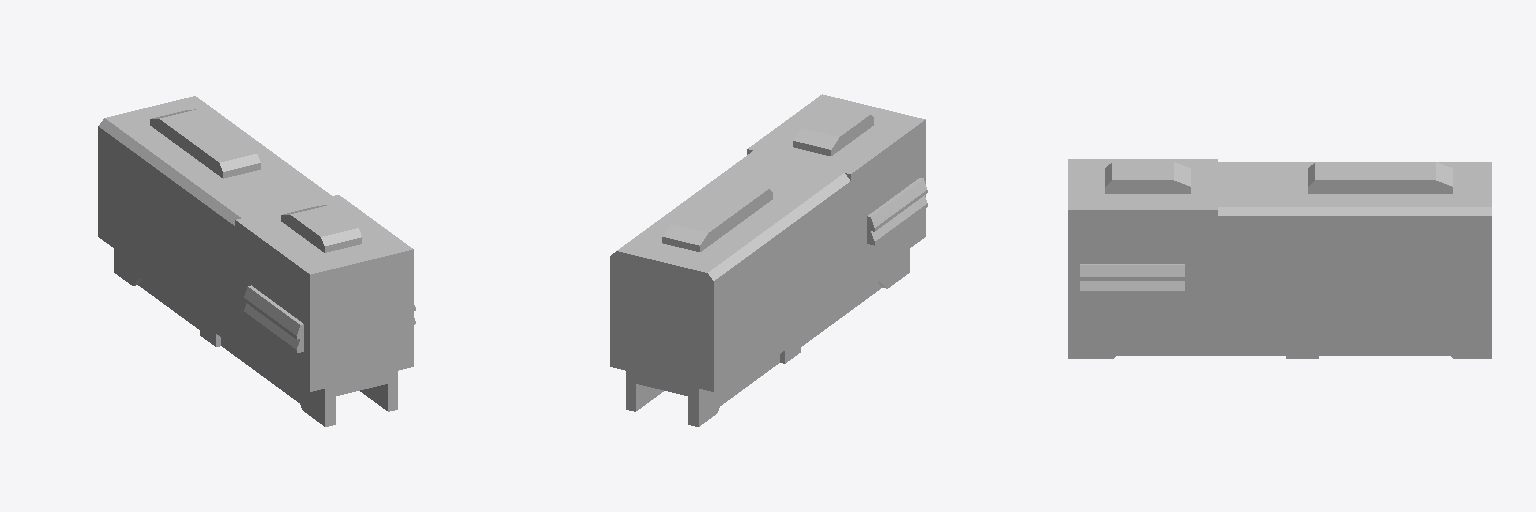
Rendered from monorailTrain_cart_exclusive.obj.
3 views of the same model, side by side, from view 1: azimuth 30°, elevation 25°; view 2: azimuth 150°, elevation 25°; view 3: azimuth 270°, elevation 25° (orthographic).
Parts seen in each view (by area): view 1: monorailTrain_cart_exclusive; view 2: monorailTrain_cart_exclusive; view 3: monorailTrain_cart_exclusive.
Part boxes in pixels (left/top/right/bottom): monorailTrain_cart_exclusive: left=98, top=96, right=415, bottom=426; monorailTrain_cart_exclusive: left=610, top=94, right=927, bottom=426; monorailTrain_cart_exclusive: left=1068, top=159, right=1491, bottom=358.
Size of the model in its own units: 4.66 by 6.36 by 14.4.